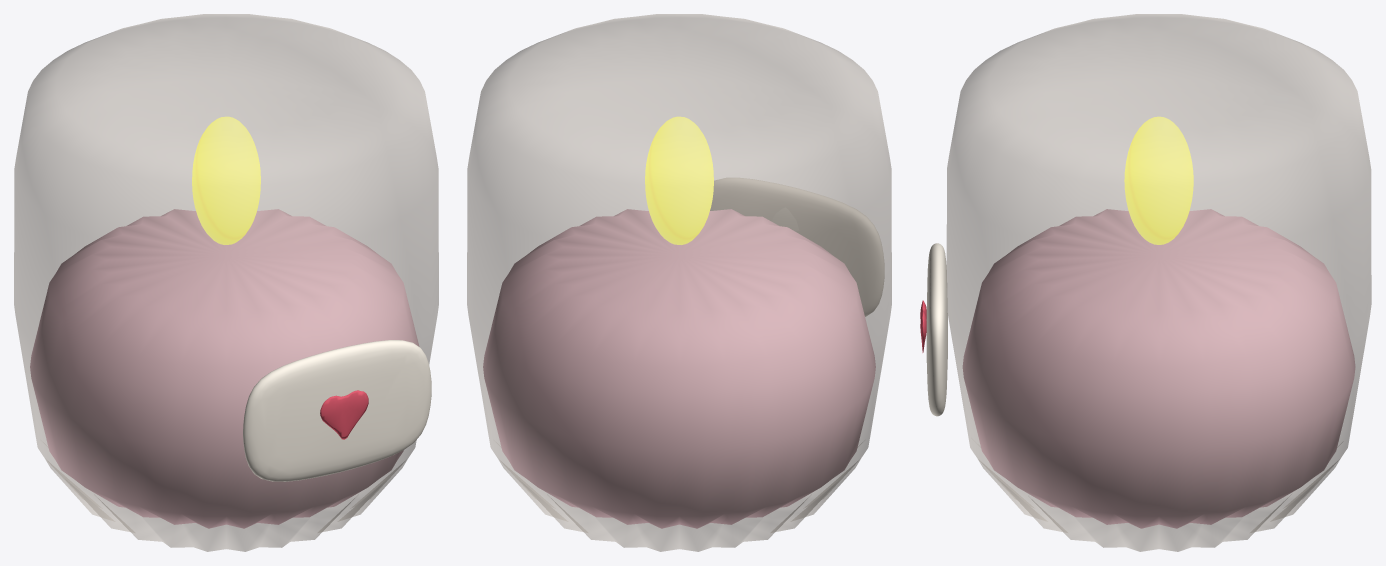
The model's file is deco_vela_frasco.glb.
3 renders of one model, left to right at view 1: azimuth 30°, elevation 25°; view 2: azimuth 150°, elevation 25°; view 3: azimuth 270°, elevation 25°, orthographic.
Parts seen in each view (by area): view 1: frasco vela.001, cera frasco.001, etiqueta frasco.001, llama frasco.001, corazón etiqueta.001; view 2: frasco vela.001, cera frasco.001, etiqueta frasco.001, llama frasco.001; view 3: frasco vela.001, cera frasco.001, llama frasco.001, etiqueta frasco.001.
Part boxes in pixels (bbox=[...]): frasco vela.001: bbox=[14, 14, 438, 551]; cera frasco.001: bbox=[30, 209, 419, 528]; etiqueta frasco.001: bbox=[243, 340, 431, 481]; llama frasco.001: bbox=[192, 116, 260, 244]; corazón etiqueta.001: bbox=[320, 390, 368, 439]; frasco vela.001: bbox=[467, 14, 891, 551]; cera frasco.001: bbox=[483, 209, 875, 528]; etiqueta frasco.001: bbox=[710, 178, 884, 316]; llama frasco.001: bbox=[645, 116, 713, 244]; frasco vela.001: bbox=[946, 14, 1371, 551]; cera frasco.001: bbox=[962, 209, 1355, 528]; llama frasco.001: bbox=[1124, 116, 1193, 244]; etiqueta frasco.001: bbox=[926, 243, 947, 416].
Bounding box in the file's own units: 0.1552 × 0.17 × 0.1648.
